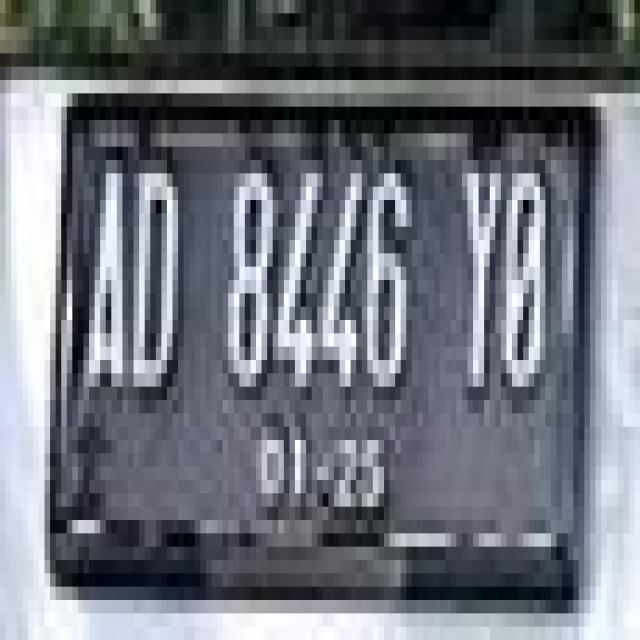4: (269, 151, 331, 412), (313, 157, 372, 416)
6: (360, 153, 424, 408)
8: (220, 165, 282, 396)
A: (78, 147, 131, 400)
D: (134, 146, 184, 414)
O: (494, 147, 562, 431)
Y: (449, 152, 508, 421)
